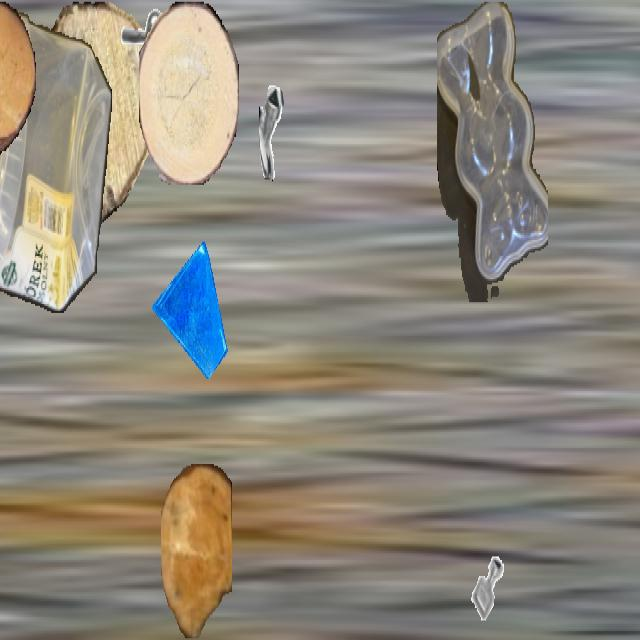glass: (152, 242, 228, 377)
metal: (106, 2, 168, 112), (259, 82, 315, 181), (463, 542, 513, 631)
plastic: (0, 2, 112, 311), (437, 2, 547, 300)
wood: (16, 2, 156, 226), (139, 2, 239, 183), (161, 464, 231, 638), (0, 1, 36, 154)
